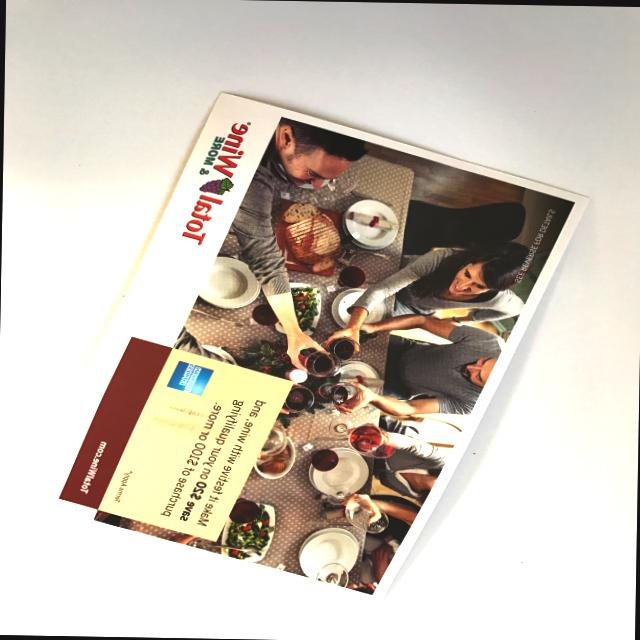Paper: (27, 75, 597, 613)
